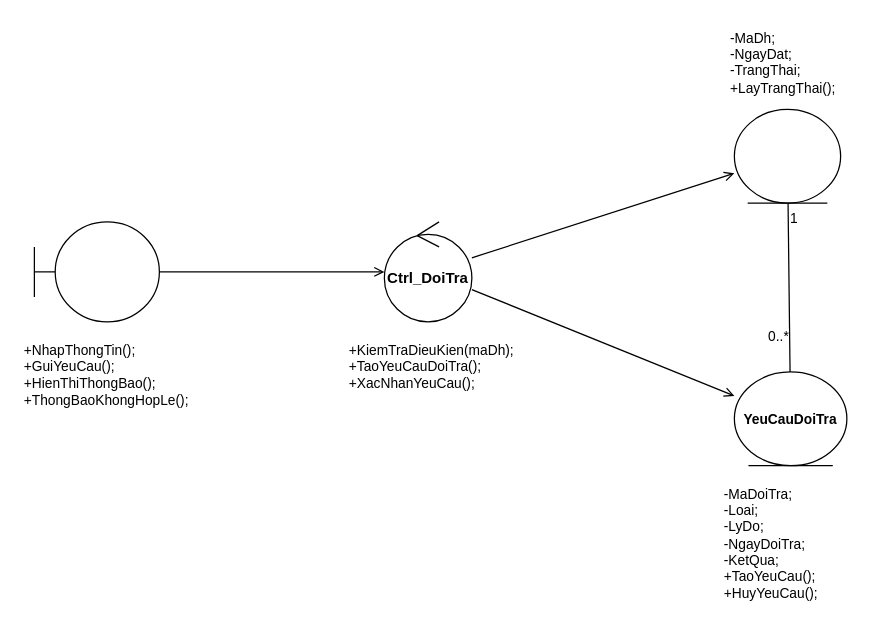
Some shapes in this 869 by 643 pixel diagram are drawn without their labels. Each missing label, with the centre of its shape:
"DonHang" goes at point (787, 155).
"Frm_YeuCauDoiTra" goes at point (96, 271).
